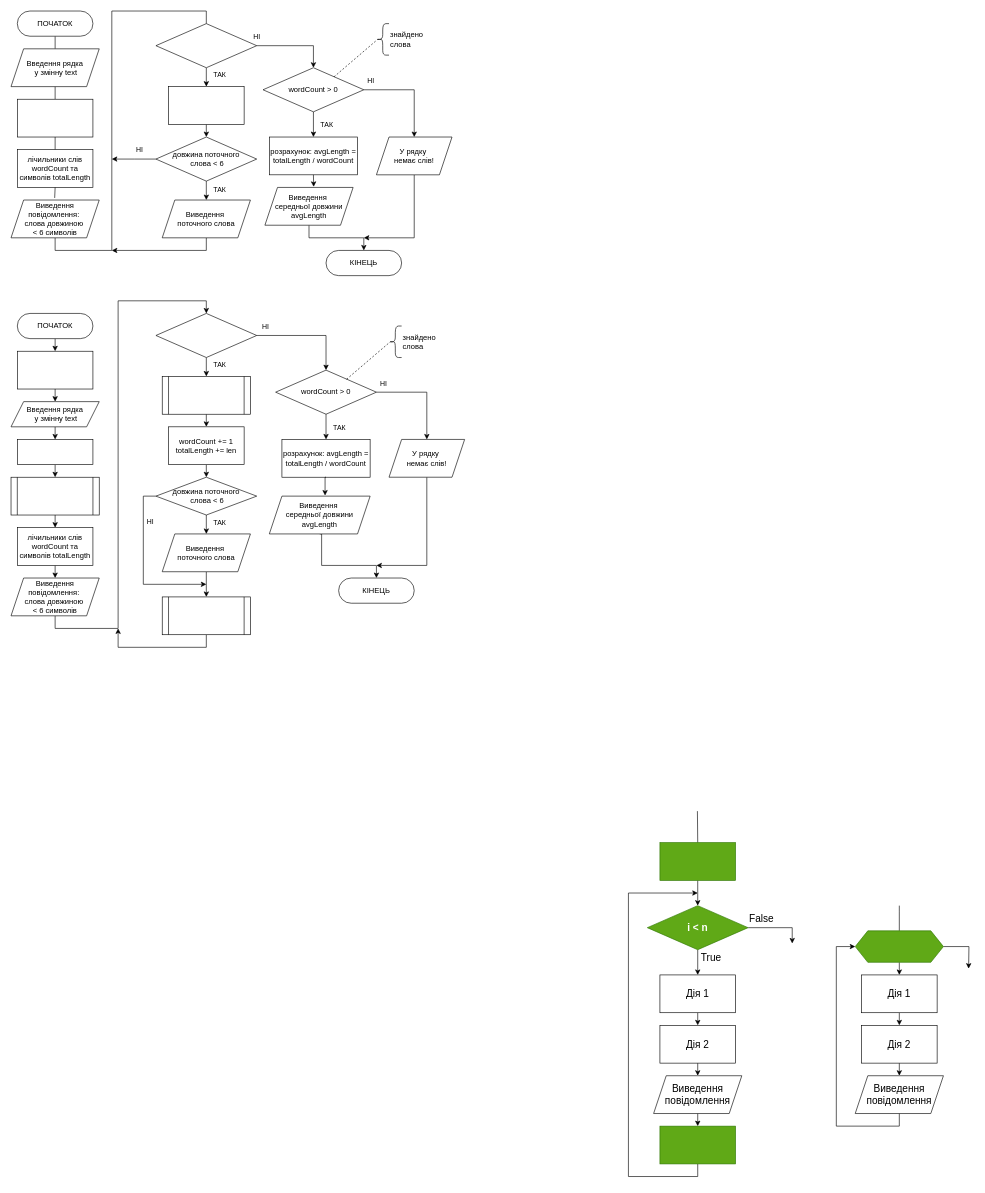
Image size: 985x1193. Some labels were removed from this diagram. The shapes that lost their labels are listed below. From the top down, each one's box as (x1, y1, x2, y2) in pixels, then its label:
(155, 23, 257, 68): потік ss виводить word
(17, 99, 93, 137): створення потоку ss на базі text
(168, 86, 244, 124): wordCount += 1 totalLength += word.length()
(155, 313, 257, 358): word != nullptr
(17, 351, 93, 389): SIZE = 256 оголошення масиву text[SIZE]
(162, 376, 250, 414): визначення довжини поточного слова len = strlen(word)
(17, 439, 93, 465): визначення розділових знаків
(10, 477, 99, 515): розділення text на word: strtok(text, delimiters)
(162, 596, 250, 635): виділення нового слова word = strtok(nullptr, delimiters)
(659, 842, 736, 880): i = 0
(855, 930, 943, 962): Цикл for: i = 0; i < n; i++
(659, 1125, 736, 1164): i++
